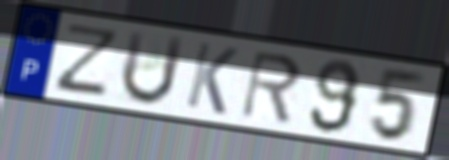5: (368, 64, 428, 143)
9: (307, 57, 362, 137)
K: (182, 39, 242, 118)
R: (238, 48, 305, 126)
U: (117, 27, 187, 108)
Z: (50, 21, 124, 99)
